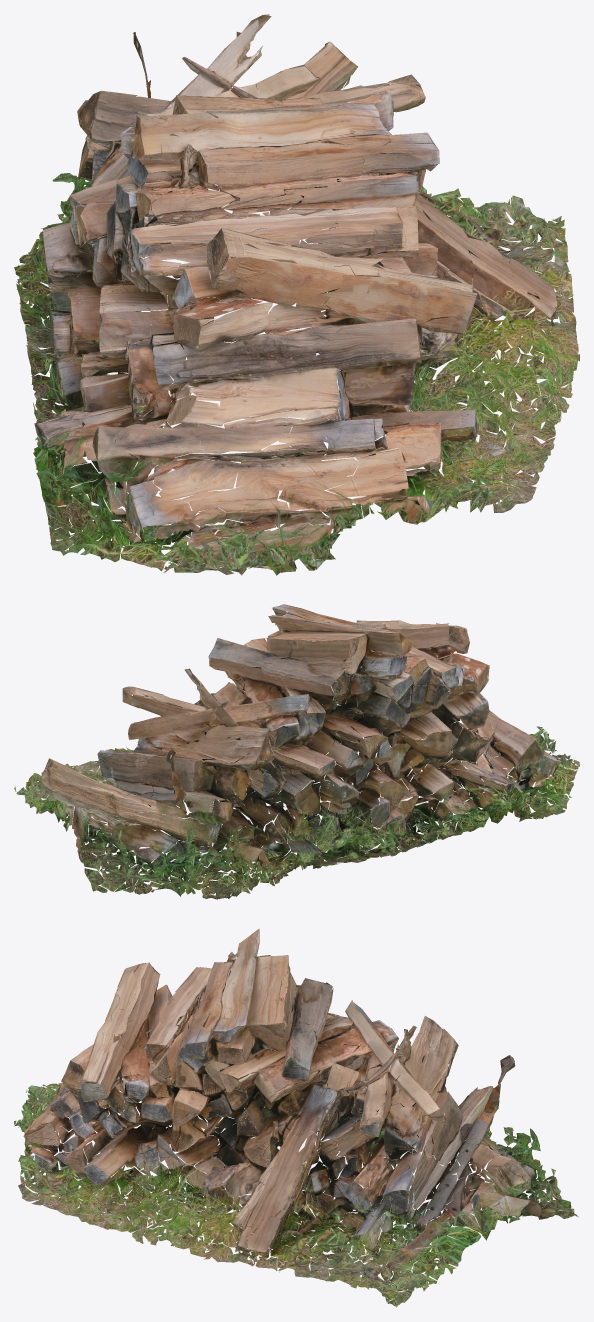
Rendered from firewood.glb.
The picture shows the model from 3 angles, top to bottom: view 1: azimuth 30°, elevation 25°; view 2: azimuth 150°, elevation 25°; view 3: azimuth 270°, elevation 25°; orthographic projection. The views are drawn at different scales.
Parts seen in each view (by area): view 1: Model_material1_0, Model_material2_0, Model_material0_0; view 2: Model_material1_0, Model_material2_0, Model_material0_0; view 3: Model_material2_0, Model_material0_0, Model_material1_0.
Part boxes in pixels (x1,y1,x2,y2): Model_material1_0: (14, 14, 579, 572); Model_material2_0: (18, 15, 576, 572); Model_material0_0: (16, 32, 578, 575); Model_material1_0: (14, 604, 578, 898); Model_material2_0: (21, 620, 573, 899); Model_material0_0: (18, 608, 579, 898); Model_material2_0: (15, 928, 575, 1301); Model_material0_0: (18, 945, 561, 1307); Model_material1_0: (14, 955, 578, 1305).
Bounding box in the file's own units: 1.49 × 0.6596 × 1.56.
Materials: 3 (3 with a texture image).
